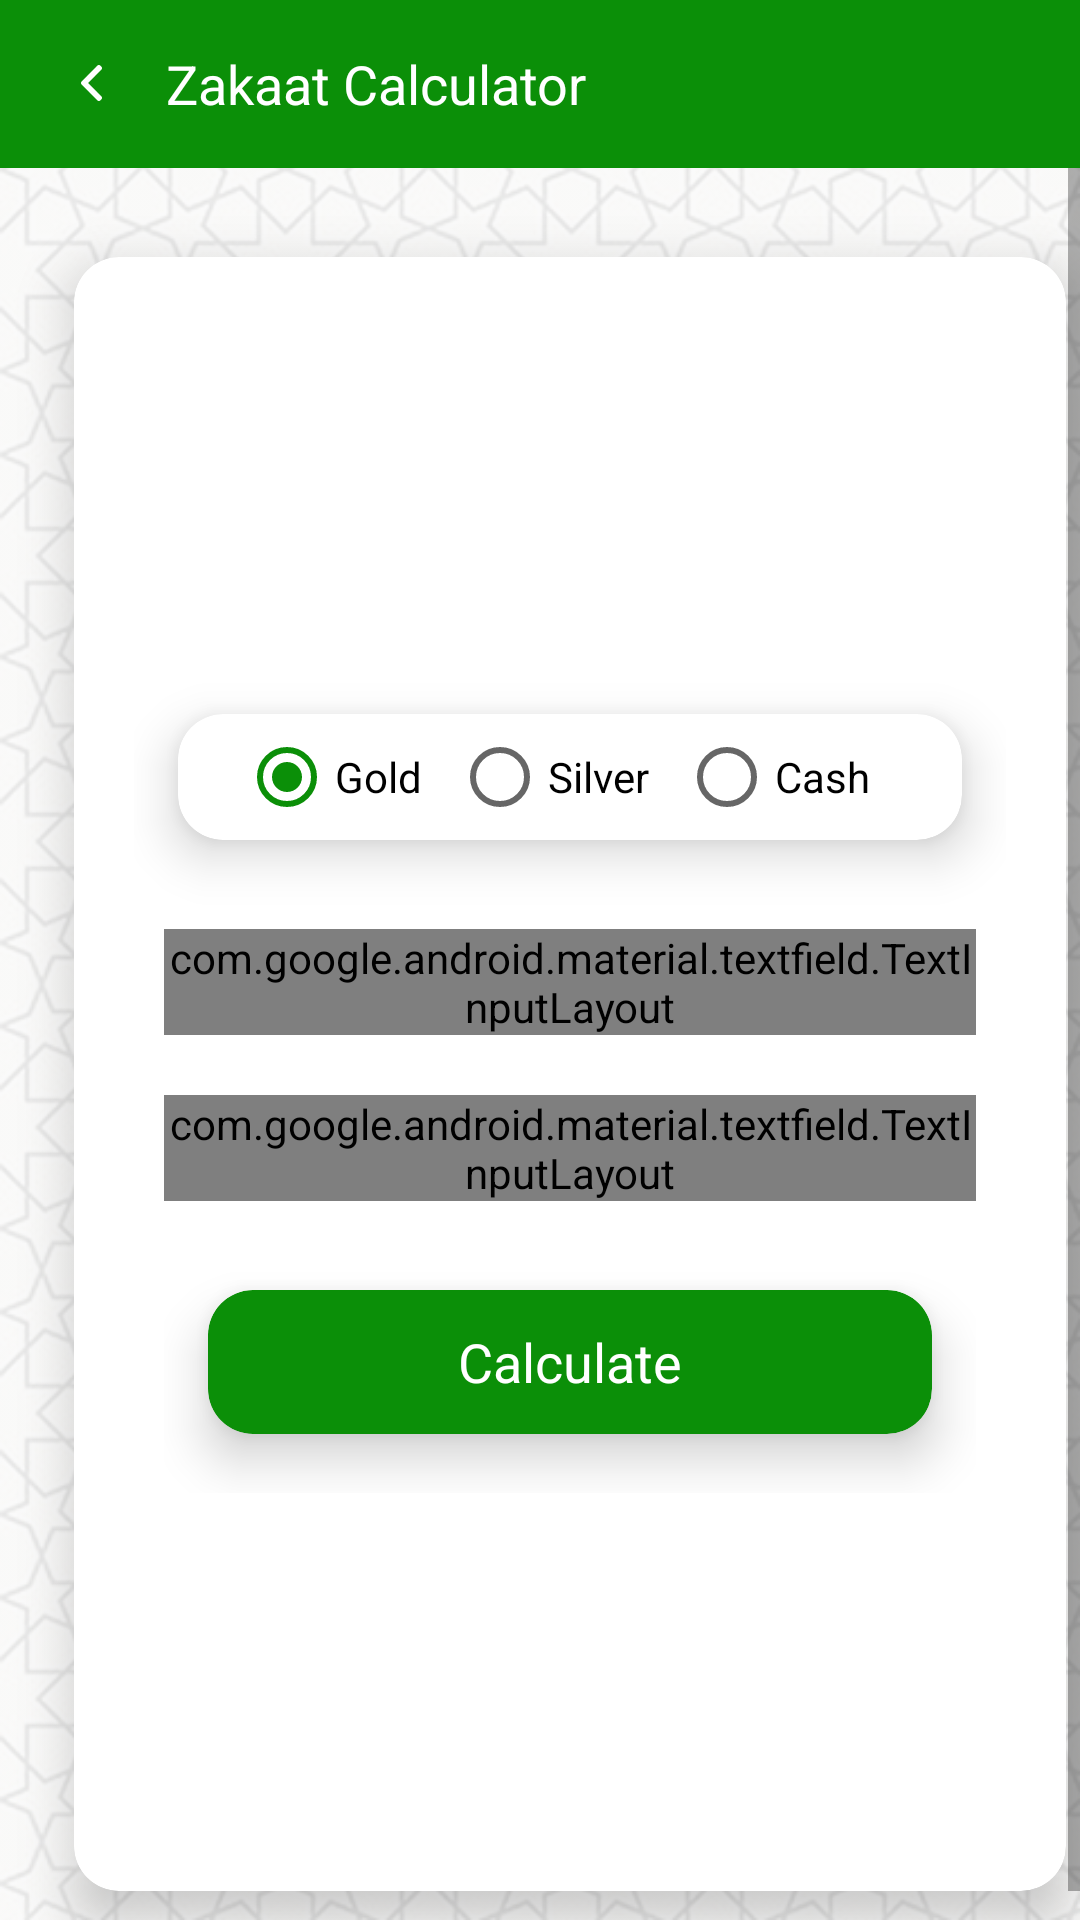

Locate icon controls on the screen. Image size 1080x1920, boxes as (left=x1, top=y1, right=x2, bottom=y2).
back: (left=81, top=65, right=102, bottom=101)
